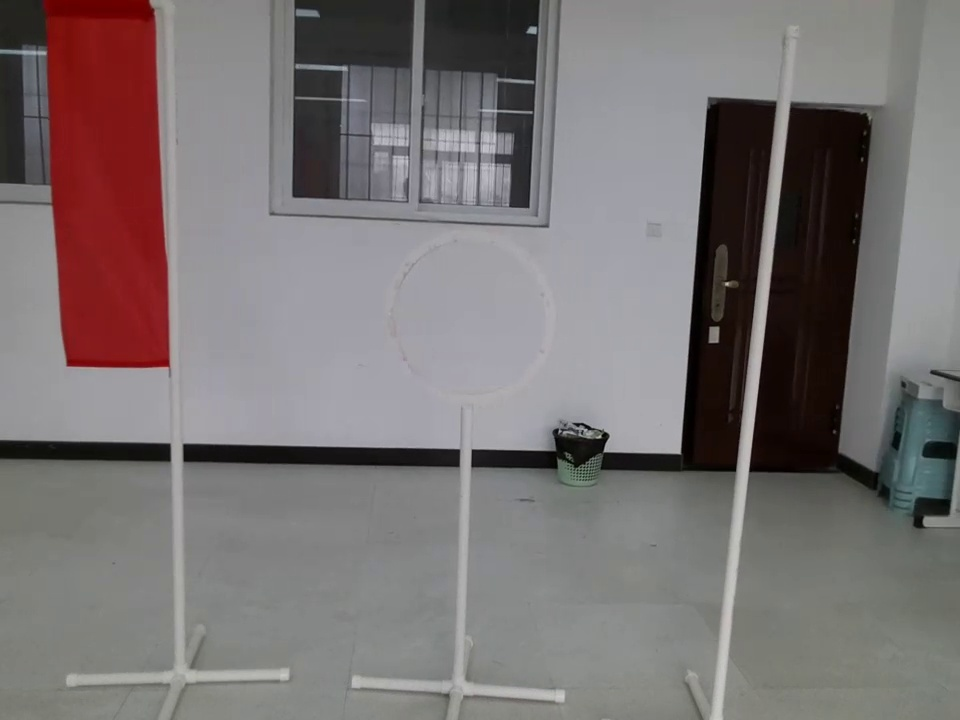gan: (718, 22, 810, 695)
qi: (38, 1, 183, 370)
quan: (367, 222, 565, 416)
